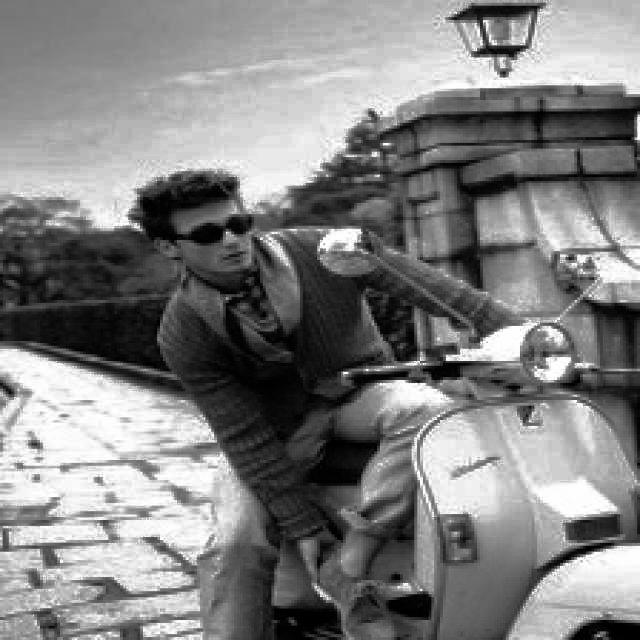Bike: (340, 351, 636, 636)
